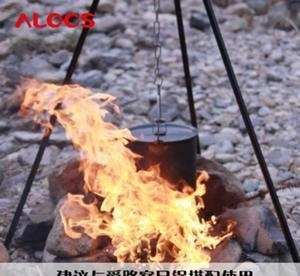fire: (37, 62, 218, 257)
